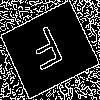F: (25, 25, 70, 80)
